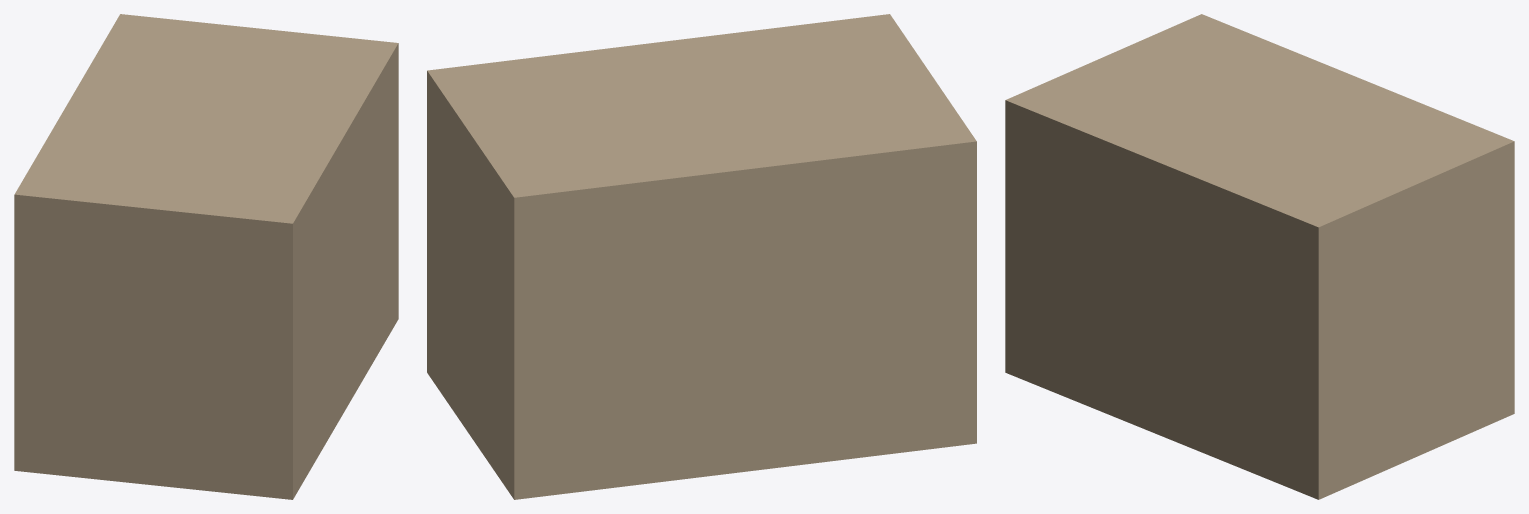
Rendered from bld_108400865.dae.
The picture shows the model from 3 angles, left to right: view 1: azimuth 30°, elevation 25°; view 2: azimuth 150°, elevation 25°; view 3: azimuth 270°, elevation 25°; orthographic projection. The views are drawn at different scales.
Visible parts, largest first — view 1: bld_108400865; view 2: bld_108400865; view 3: bld_108400865.
Part boxes in pixels (<box>): bld_108400865: <box>14,14,398,499</box>; bld_108400865: <box>427,14,976,499</box>; bld_108400865: <box>1005,14,1514,499</box>.
Size of the model in its own units: 13.44 by 13.55 by 8.
